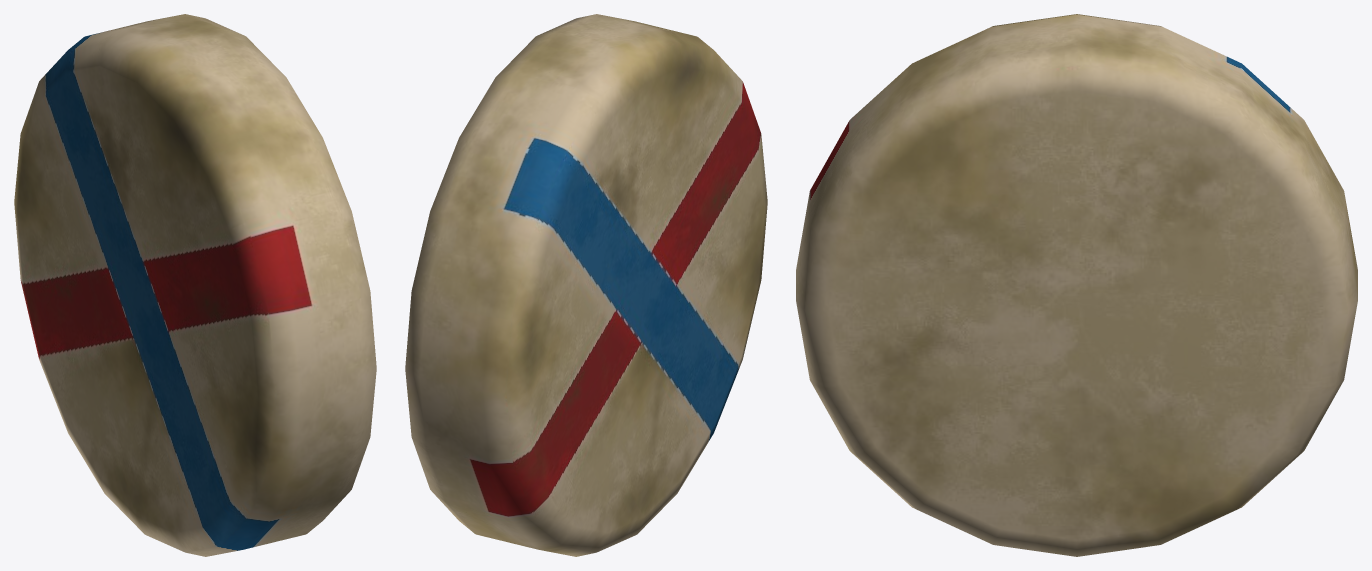
Rendered from DG_cheese_wheel.fbx.
The picture shows the model from 3 angles, left to right: view 1: azimuth 30°, elevation 25°; view 2: azimuth 150°, elevation 25°; view 3: azimuth 270°, elevation 25°; orthographic projection. The views are drawn at different scales.
Visible parts, largest first — view 1: p_cheesewheel_regular_lowpoly; view 2: p_cheesewheel_regular_lowpoly; view 3: p_cheesewheel_regular_lowpoly.
Boxes of the visible parts, x1,y1,x2,y2 form: p_cheesewheel_regular_lowpoly: (14, 14, 376, 556); p_cheesewheel_regular_lowpoly: (405, 14, 767, 556); p_cheesewheel_regular_lowpoly: (796, 14, 1357, 556).
Size of the model in its own units: 10 by 40 by 40.
